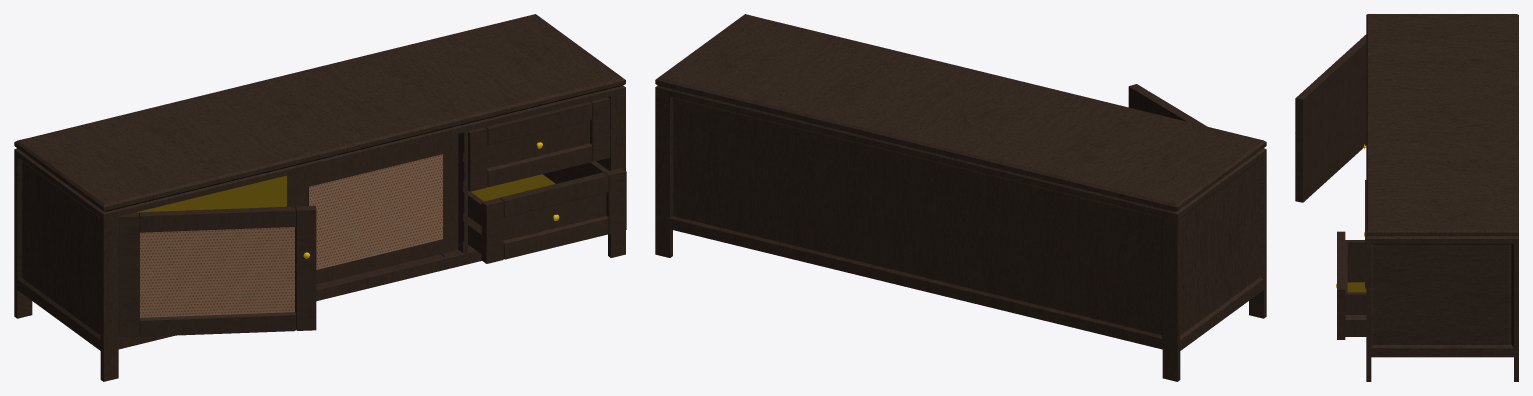
3 views of the same model, side by side, from view 1: azimuth 30°, elevation 25°; view 2: azimuth 150°, elevation 25°; view 3: azimuth 270°, elevation 25° (orthographic). The views are drawn at different scales.
Visible parts, largest first — view 1: rack, doorLeft, doorRight, drawerDown, drawerUp, shelf; view 2: rack, doorLeft; view 3: rack, doorLeft, drawerDown, drawerUp.
Boxes of the visible parts, left/top/right/bottom form: rack: left=14, top=14, right=625, bottom=381; doorLeft: left=118, top=205, right=316, bottom=337; doorRight: left=287, top=132, right=463, bottom=289; drawerDown: left=463, top=161, right=626, bottom=263; drawerUp: left=463, top=97, right=610, bottom=191; shelf: left=137, top=175, right=286, bottom=212; rack: left=655, top=14, right=1266, bottom=381; doorLeft: left=1128, top=84, right=1206, bottom=126; rack: left=1366, top=14, right=1518, bottom=381; doorLeft: left=1295, top=34, right=1366, bottom=202; drawerDown: left=1336, top=231, right=1366, bottom=339; drawerUp: left=1364, top=180, right=1366, bottom=288.
Size of the model in its own units: 15.2 by 4.91 by 6.6.
4 materials, 2 textured.
